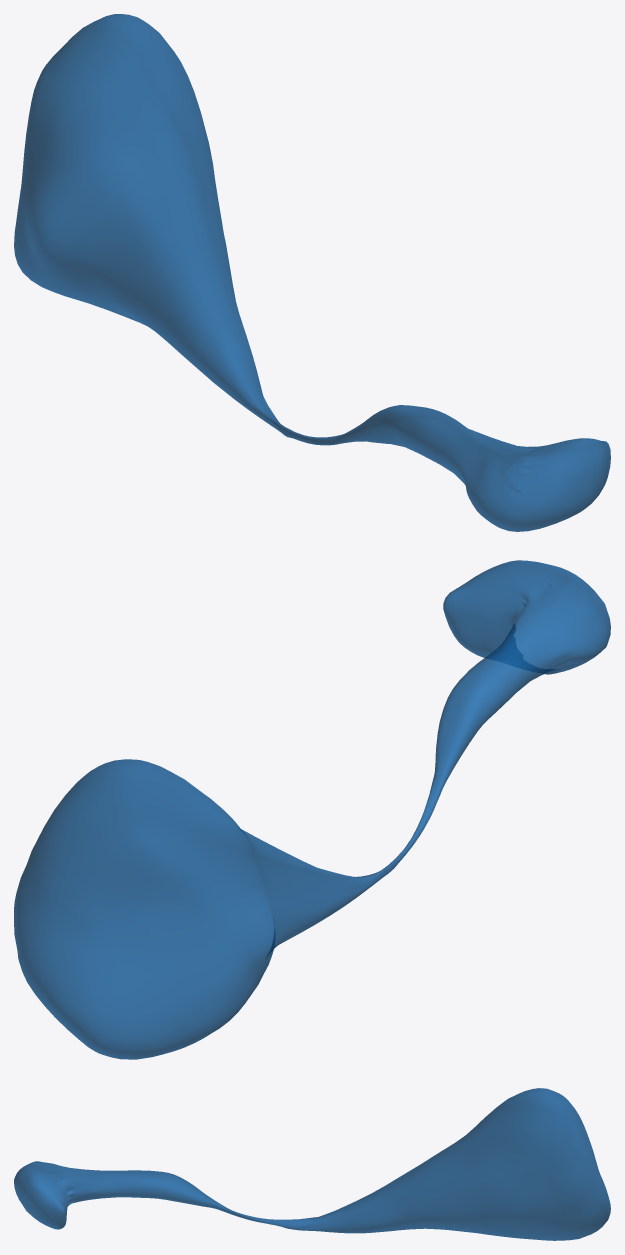
Rendered from spine-7-hr.obj.
The picture shows the model from 3 angles, top to bottom: view 1: azimuth 30°, elevation 25°; view 2: azimuth 150°, elevation 25°; view 3: azimuth 270°, elevation 25°; orthographic projection. The views are drawn at different scales.
Visible parts, largest first — view 1: spine-7-hr_Cube.197; view 2: spine-7-hr_Cube.197; view 3: spine-7-hr_Cube.197.
Part boxes in pixels (x1=…): spine-7-hr_Cube.197: x1=14, y1=14, x2=610, y2=531; spine-7-hr_Cube.197: x1=14, y1=560, x2=610, y2=1059; spine-7-hr_Cube.197: x1=14, y1=1088, x2=610, y2=1240.
Size of the model in its own units: 0.4849 by 0.598 by 2.09.
